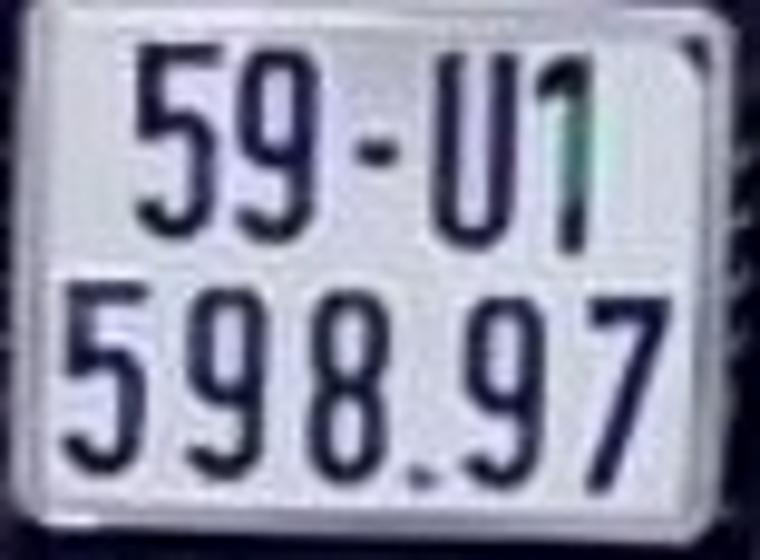-: (354, 136, 405, 174)
.: (406, 460, 443, 498)
1: (531, 48, 596, 256)
5: (54, 270, 149, 478), (134, 37, 229, 241)
7: (581, 291, 677, 497)
8: (303, 289, 390, 483)
9: (454, 296, 550, 496), (237, 49, 321, 248), (187, 282, 270, 475)
U: (428, 46, 525, 250)
